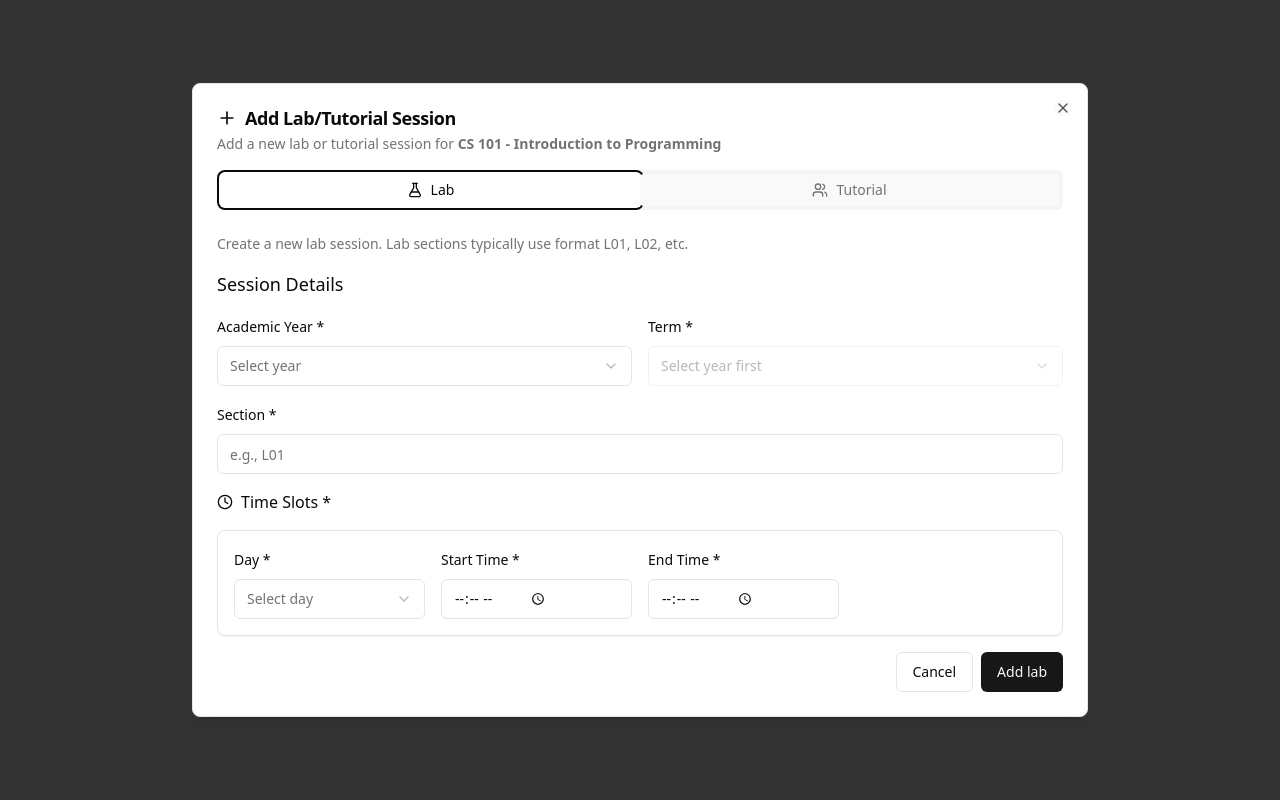
Test: AddLabTutorialModal › shows validation errors for empty fields
Click the button "Add lab" at (1022, 672), box [981,652,1063,692]
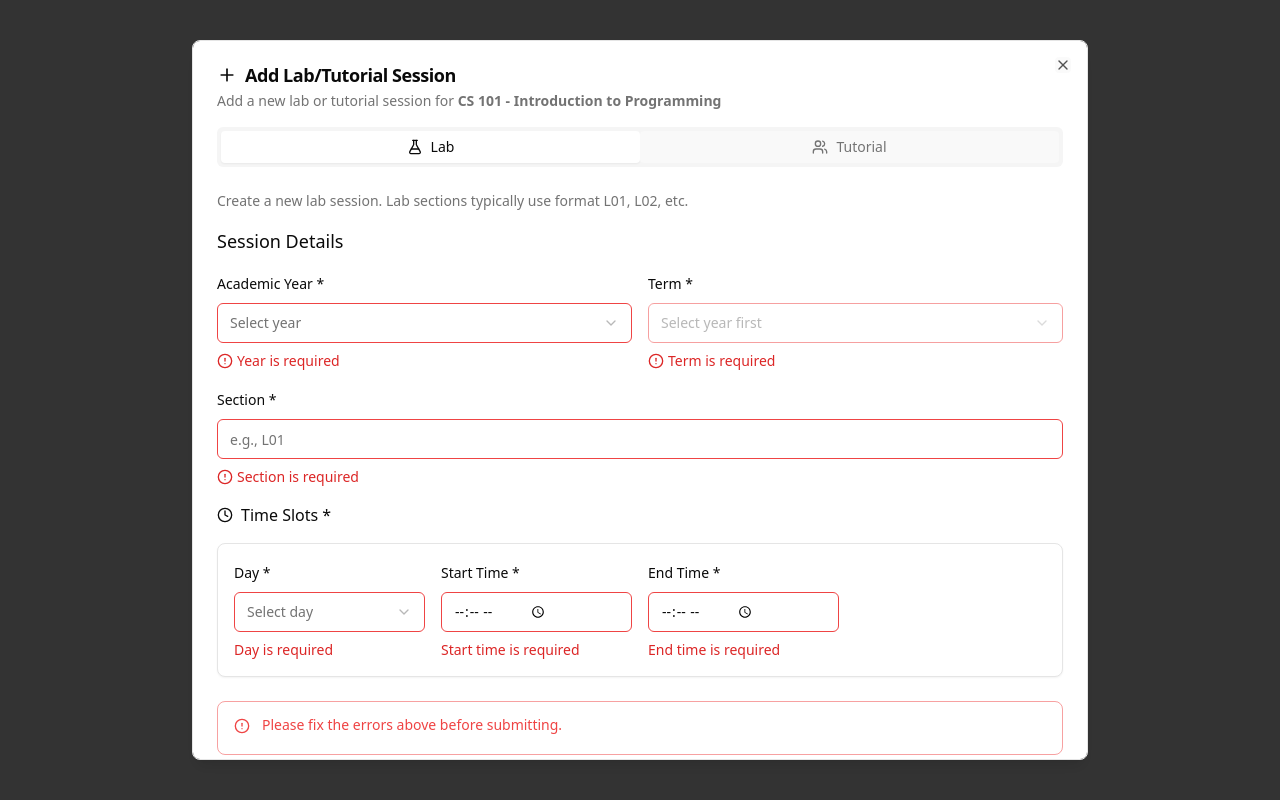
Expected: the text "Section is required" is shown, [217,467,359,486]
Expected: the text "Year is required" is shown, [217,351,340,370]
Expected: the text "Term is required" is shown, [648,351,776,370]
